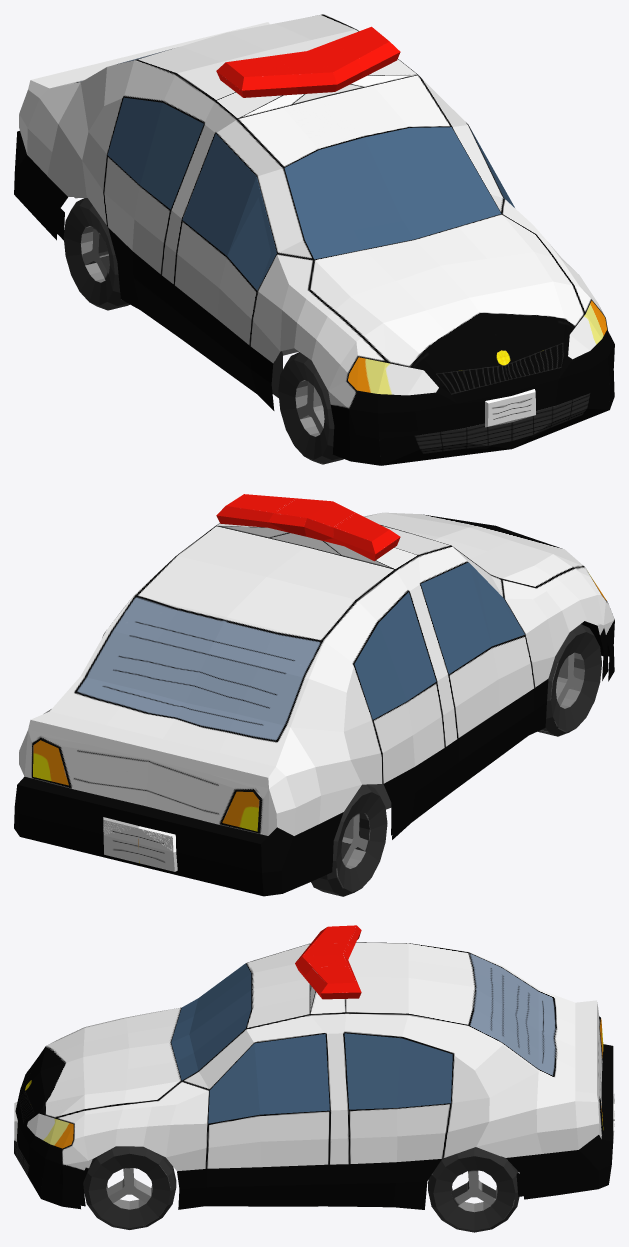
The model's file is PoliceCar2.fbx.
3 views of the same model, one above another, from view 1: azimuth 30°, elevation 25°; view 2: azimuth 150°, elevation 25°; view 3: azimuth 270°, elevation 25° (orthographic). The views are drawn at different scales.
Visible parts, largest first — view 1: body, Door, Top_acce, Tire; view 2: body, Door, Tire, Top_acce, body.001; view 3: body, Tire, Top_acce, body.001.
Boxes of the visible parts, bbox=[...] form: body: bbox=[14, 14, 614, 465]; Door: bbox=[175, 133, 276, 393]; Top_acce: bbox=[216, 26, 417, 118]; Tire: bbox=[63, 198, 343, 464]; body: bbox=[14, 512, 614, 896]; Door: bbox=[421, 562, 534, 790]; Tire: bbox=[311, 624, 601, 896]; Top_acce: bbox=[216, 494, 417, 569]; body.001: bbox=[332, 619, 608, 862]; body: bbox=[14, 942, 614, 1209]; Tire: bbox=[83, 1146, 519, 1232]; Top_acce: bbox=[295, 925, 361, 1014]; body.001: bbox=[78, 1146, 523, 1206].
Size of the model in its own units: 106 by 101 by 241.
